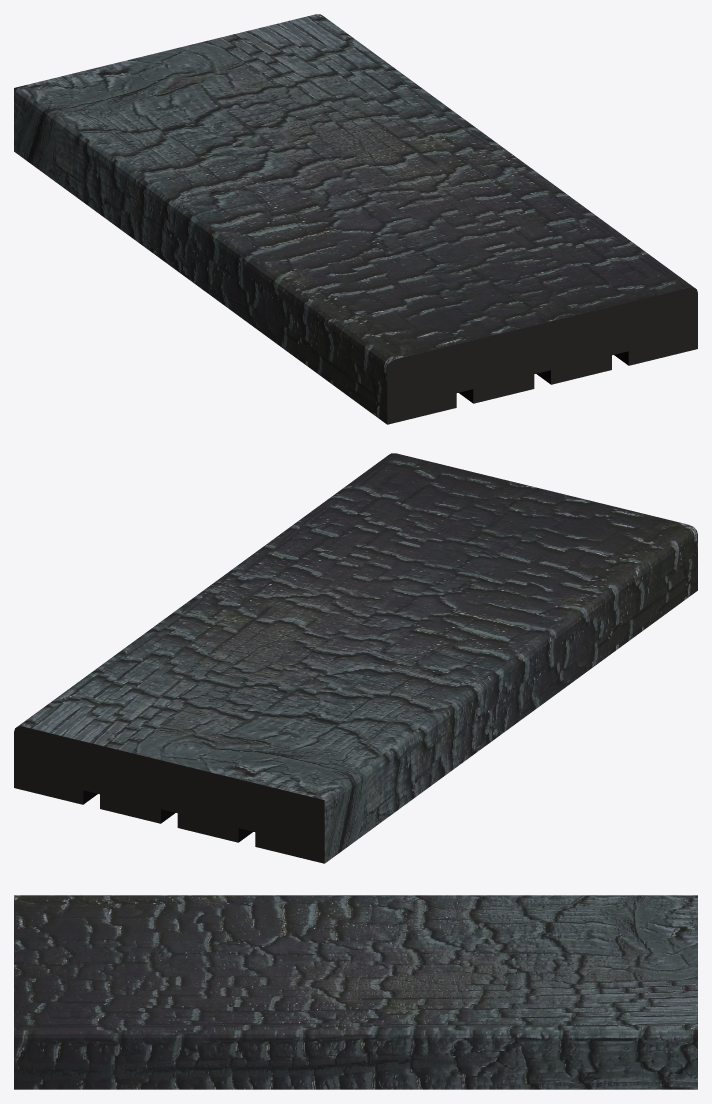
The model's file is thermo-terrace.glb.
3 renders of one model, top to bottom at view 1: azimuth 30°, elevation 25°; view 2: azimuth 150°, elevation 25°; view 3: azimuth 270°, elevation 25°, orthographic. The views are drawn at different scales.
Parts seen in each view (by area): view 1: Staciakampis; view 2: Staciakampis; view 3: Staciakampis.
Boxes of the visible parts, x1,y1,x2,y2 form: Staciakampis: [14, 14, 697, 424]; Staciakampis: [14, 453, 697, 863]; Staciakampis: [14, 895, 697, 1089].
Bounding box in the file's own units: 0.0885 × 0.0173 × 0.1843.
3 materials, 1 textured.
